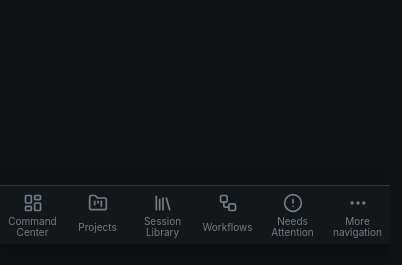
Scenario: ActivityRail › keeps compact navigation discoverable through an accessible more menu
Click the button "More navigation".
click(358, 215)  # box [325,186,390,244]
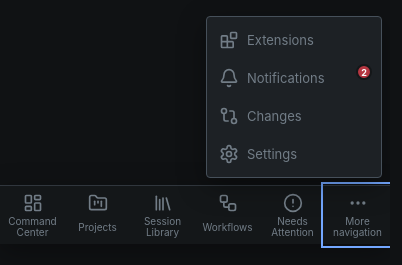
Expected: the menu named "More navigation" is shown, [206,16,382,178]
Expected: the menu item "Extensions" is shown, [219,30,314,50]
